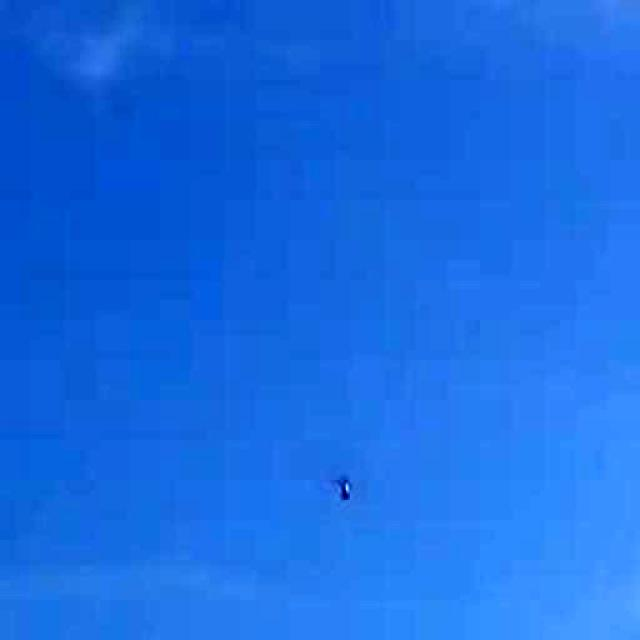drone: (312, 442, 375, 524)
